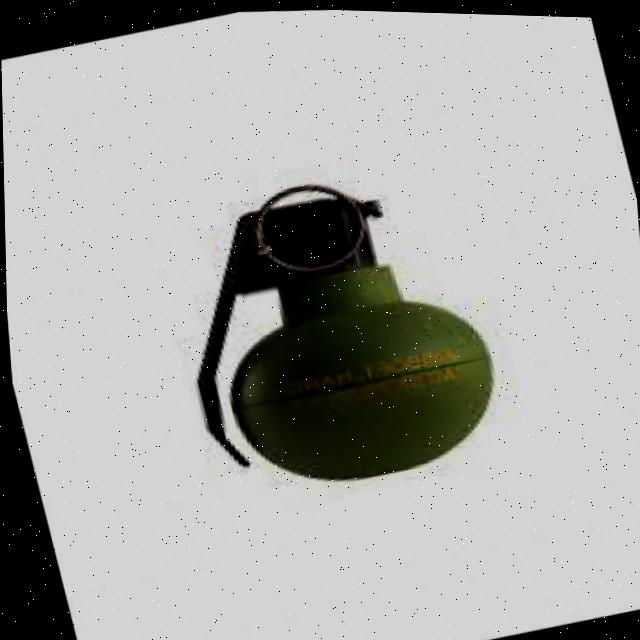grenade: (145, 154, 516, 532)
